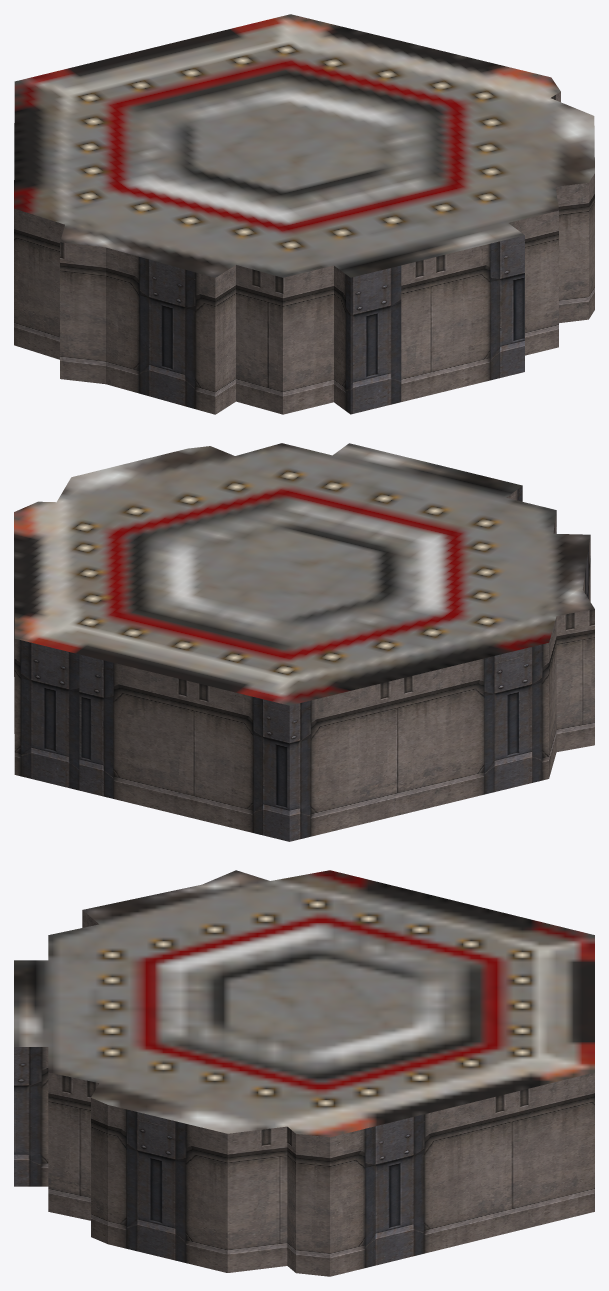
Rendered from bsealed_hard_28.glb.
The picture shows the model from 3 angles, top to bottom: view 1: azimuth 30°, elevation 25°; view 2: azimuth 150°, elevation 25°; view 3: azimuth 270°, elevation 25°; orthographic projection. The views are drawn at different scales.
Visible parts, largest first — view 1: buildings/saxarba/bsealed_hard/bsealed_hard_28; view 2: buildings/saxarba/bsealed_hard/bsealed_hard_28; view 3: buildings/saxarba/bsealed_hard/bsealed_hard_28.
Part boxes in pixels (x1,y1,x2,y2): buildings/saxarba/bsealed_hard/bsealed_hard_28: [14, 14, 594, 414]; buildings/saxarba/bsealed_hard/bsealed_hard_28: [14, 443, 594, 841]; buildings/saxarba/bsealed_hard/bsealed_hard_28: [14, 870, 594, 1276].
Size of the model in its own units: 74 by 18 by 68.
